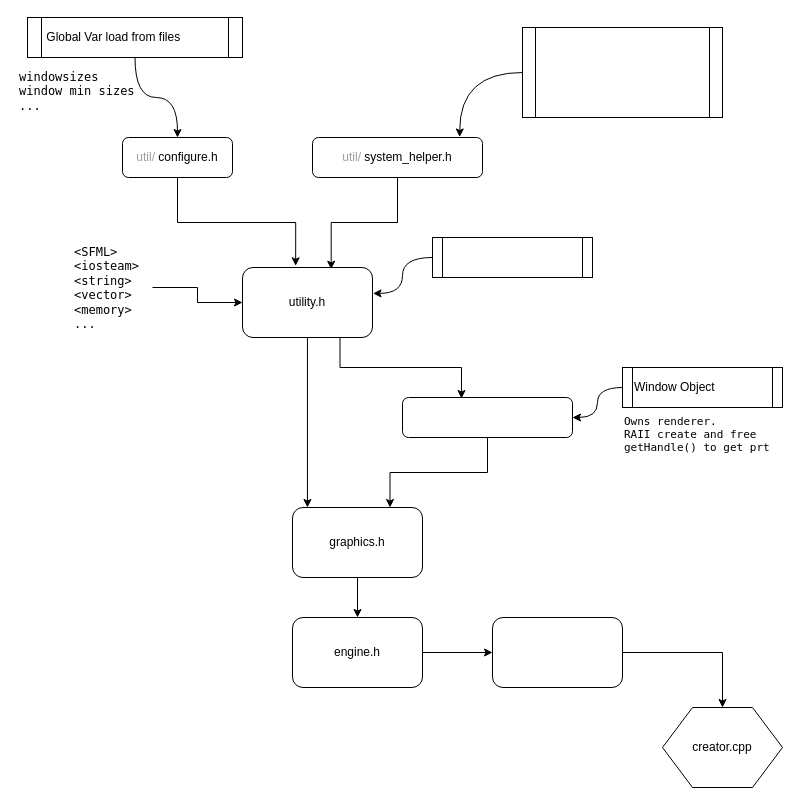
The diagram is 800 pixels wide and 805 high, and some of its shapes have lost their labels. Here are the shapes that lost their labels. From the top down, the centre of each, then its label:
the point at 622,72: Message DebugMessage ErrorMessage
the point at 512,257: typedefs... Warping SFML
the point at 487,417: graphics/ window.h
the point at 557,652: game.h
